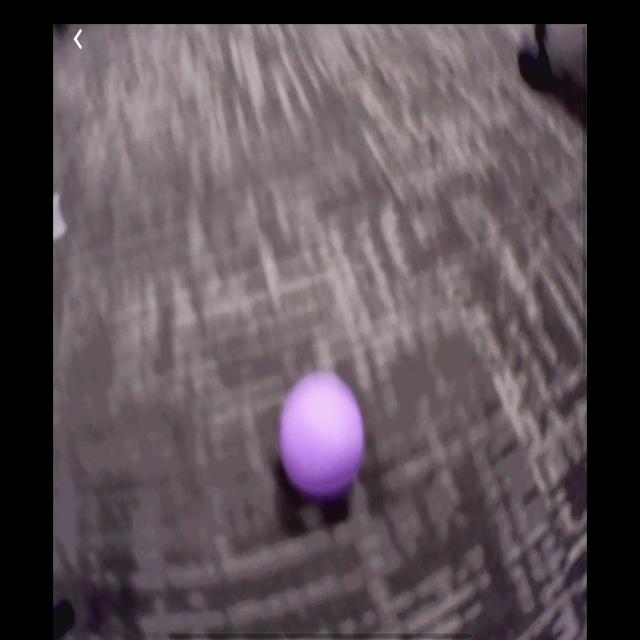ball: (279, 371, 363, 493)
